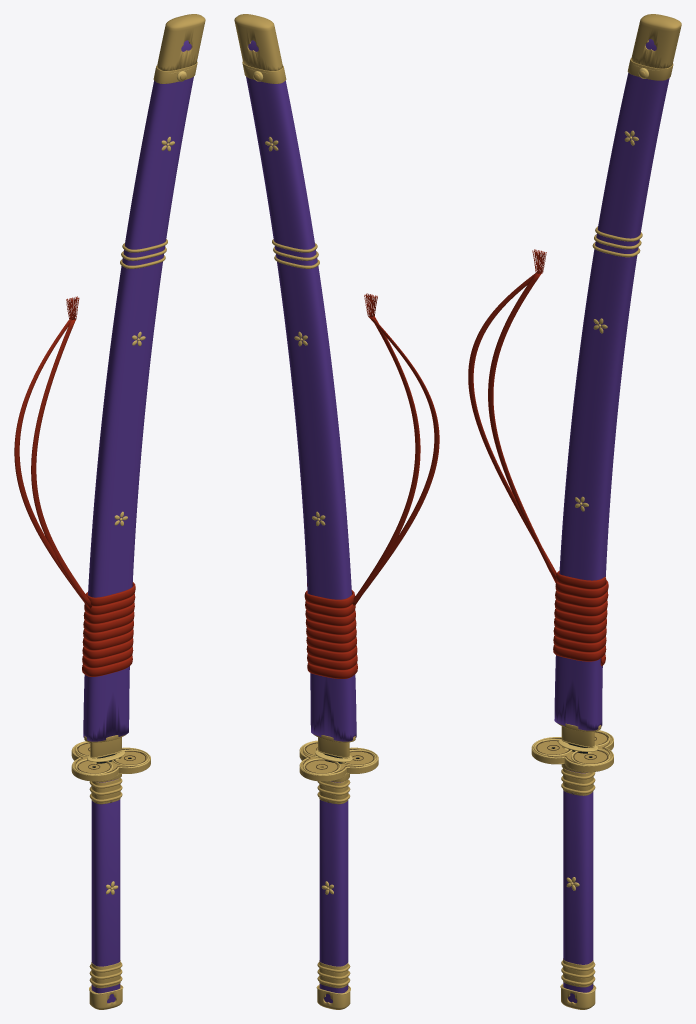
The model's file is enma.glb.
The picture shows the model from 3 angles, left to right: view 1: azimuth 30°, elevation 25°; view 2: azimuth 150°, elevation 25°; view 3: azimuth 330°, elevation 25°; orthographic projection. The views are drawn at different scales.
Parts seen in each view (by area): view 1: Enma.Saya_shell, Enma.Tsuka_lacquer, Enma.Sageo_wrap, Enma.Kojiri, Enma.Sageo_tail, Enma.Tsuba, Enma.Sageo_tail.001, Enma.Kashira, Enma.Habaki, Enma.Kojiri_wide_knob_band, Enma.Tsuka_ring_base, Enma.Tsuka_ring_base.001; view 2: Enma.Saya_shell, Enma.Tsuka_lacquer, Enma.Sageo_wrap, Enma.Kojiri, Enma.Sageo_tail.001, Enma.Tsuba, Enma.Sageo_tail, Enma.Kashira, Enma.Habaki, Enma.Kojiri_wide_knob_band; view 3: Enma.Saya_shell, Enma.Tsuka_lacquer, Enma.Sageo_wrap, Enma.Kojiri, Enma.Sageo_tail, Enma.Tsuba, Enma.Sageo_tail.001, Enma.Kashira, Enma.Habaki, Enma.Tsuka_ring_base, Enma.Kojiri_wide_knob_band.
Part boxes in pixels (x1,y1,x2,y2): Enma.Saya_shell: (83,40,193,741); Enma.Tsuka_lacquer: (91,778,120,1003); Enma.Sageo_wrap: (82,582,135,676); Enma.Kojiri: (157,14,205,70); Enma.Sageo_tail: (31,319,91,609); Enma.Tsuba: (71,743,150,781); Enma.Sageo_tail.001: (14,319,88,607); Enma.Kashira: (89,985,122,1009); Enma.Habaki: (90,737,121,758); Enma.Kojiri_wide_knob_band: (153,61,197,83); Enma.Tsuka_ring_base: (91,960,120,988); Enma.Tsuka_ring_base.001: (91,778,120,804); Enma.Saya_shell: (246,40,356,741); Enma.Tsuka_lacquer: (319,781,348,1003); Enma.Sageo_wrap: (304,583,357,678); Enma.Kojiri: (234,14,282,70); Enma.Sageo_tail.001: (352,316,439,605); Enma.Tsuba: (299,743,378,781); Enma.Sageo_tail: (355,316,420,605); Enma.Kashira: (317,985,350,1009); Enma.Habaki: (318,737,349,758); Enma.Kojiri_wide_knob_band: (242,61,286,83); Enma.Saya_shell: (554,39,669,730); Enma.Tsuka_lacquer: (563,769,593,1003); Enma.Sageo_wrap: (553,570,608,666); Enma.Kojiri: (631,14,681,68); Enma.Sageo_tail: (488,273,556,583); Enma.Tsuba: (531,732,613,771); Enma.Sageo_tail.001: (468,272,556,574); Enma.Kashira: (561,985,595,1009); Enma.Habaki: (561,726,594,747); Enma.Tsuka_ring_base: (563,958,593,987); Enma.Kojiri_wide_knob_band: (627,58,673,80).
Size of the model in its own units: 1.06 by 4.99 by 0.3691.
Materials: 8 (2 with a texture image).
